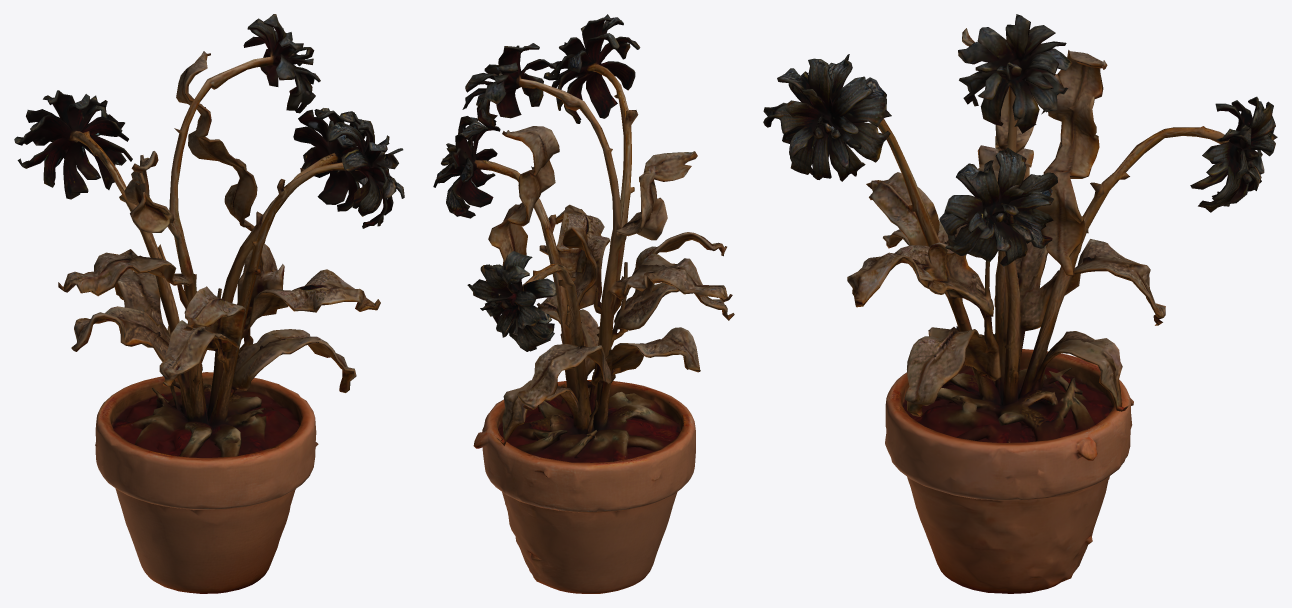
3 renders of one model, left to right at view 1: azimuth 30°, elevation 25°; view 2: azimuth 150°, elevation 25°; view 3: azimuth 270°, elevation 25°, orthographic. The views are drawn at different scales.
Visible parts, largest first — view 1: tripo_node_5b5252ec-fc69-4b48-b348-b25e8023da5b; view 2: tripo_node_5b5252ec-fc69-4b48-b348-b25e8023da5b; view 3: tripo_node_5b5252ec-fc69-4b48-b348-b25e8023da5b.
Part boxes in pixels (x1=…): tripo_node_5b5252ec-fc69-4b48-b348-b25e8023da5b: x1=14, y1=14, x2=404, y2=593; tripo_node_5b5252ec-fc69-4b48-b348-b25e8023da5b: x1=433, y1=14, x2=734, y2=593; tripo_node_5b5252ec-fc69-4b48-b348-b25e8023da5b: x1=763, y1=14, x2=1277, y2=593.
Bounding box in the file's own units: 0.6127 × 1 × 0.7925.
1 material, 1 textured.
